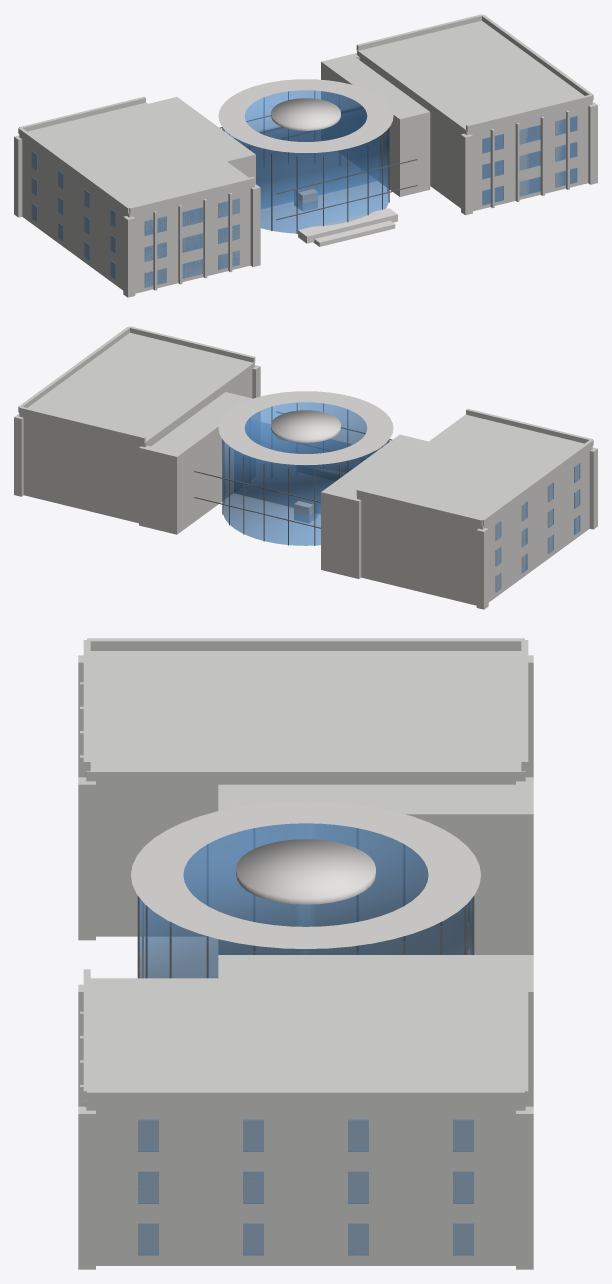
File: Library.glb
3 views of the same model, one above another, from view 1: azimuth 30°, elevation 25°; view 2: azimuth 150°, elevation 25°; view 3: azimuth 270°, elevation 25° (orthographic). The views are drawn at different scales.
Parts seen in each view (by area): view 1: OBJ_Wing_Left_Mass, OBJ_Wing_Right_Parapet, OBJ_Wing_Left_Parapet, OBJ_CentralCurvedBlock, OBJ_Wing_Right_Mass, OBJ_RearCurvedBlock, OBJ_CurvedRoofDisk, OBJ_Connector_Right, OBJ_Connector_Left, OBJ_EntranceLanding, OBJ_Column_LL, OBJ_Parapet_Left_Side (+18 smaller); view 2: OBJ_Wing_Left_Mass, OBJ_Wing_Right_Parapet, OBJ_Wing_Left_Parapet, OBJ_RearCurvedBlock, OBJ_Wing_Right_Mass, OBJ_Connector_Right, OBJ_CurvedRoofDisk, OBJ_CentralCurvedBlock, OBJ_Connector_Left, OBJ_Column_LBL, OBJ_Parapet_Left_Side, OBJ_Parapet_Left_Rear (+9 smaller); view 3: OBJ_Wing_Right_Mass, OBJ_Wing_Left_Parapet, OBJ_Wing_Right_Parapet, OBJ_Connector_Left, OBJ_CurvedRoofDisk, OBJ_Wing_Left_Mass, OBJ_CentralCurvedBlock, OBJ_RearCurvedBlock, OBJ_Connector_Right, OBJ_Parapet_Right_Side, OBJ_Parapet_Left_Side, OBJ_Column_LR (+6 smaller).
Part boxes in pixels (<box>): OBJ_Wing_Left_Mass: <box>22,139,250,293</box>; OBJ_Wing_Right_Parapet: <box>357,20,592,135</box>; OBJ_Wing_Left_Parapet: <box>19,102,254,217</box>; OBJ_CentralCurvedBlock: <box>234,107,388,233</box>; OBJ_Wing_Right_Mass: <box>359,57,588,211</box>; OBJ_RearCurvedBlock: <box>222,90,377,208</box>; OBJ_CurvedRoofDisk: <box>218,79,393,152</box>; OBJ_Connector_Right: <box>321,54,430,196</box>; OBJ_Connector_Left: <box>148,97,255,184</box>; OBJ_EntranceLanding: <box>298,208,397,243</box>; OBJ_Column_LL: <box>123,216,135,297</box>; OBJ_Parapet_Left_Side: <box>18,128,129,213</box>; OBJ_Wing_Left_Mass: <box>361,451,589,605</box>; OBJ_Wing_Right_Parapet: <box>19,332,254,447</box>; OBJ_Wing_Left_Parapet: <box>357,414,592,529</box>; OBJ_RearCurvedBlock: <box>223,419,377,545</box>; OBJ_Wing_Right_Mass: <box>23,369,252,523</box>; OBJ_Connector_Right: <box>146,392,255,534</box>; OBJ_CurvedRoofDisk: <box>218,391,393,464</box>; OBJ_CentralCurvedBlock: <box>234,402,389,513</box>; OBJ_Connector_Left: <box>321,434,428,576</box>; OBJ_Column_LBL: <box>476,528,488,609</box>; OBJ_Parapet_Left_Side: <box>482,440,593,525</box>; OBJ_Parapet_Left_Rear: <box>356,489,482,525</box>; OBJ_Wing_Right_Mass: <box>96,1110,515,1265</box>; OBJ_Wing_Left_Parapet: <box>86,651,525,781</box>; OBJ_Wing_Right_Parapet: <box>86,978,525,1110</box>; OBJ_Connector_Left: <box>218,784,533,954</box>; OBJ_CurvedRoofDisk: <box>131,801,480,948</box>; OBJ_Wing_Left_Mass: <box>96,781,515,936</box>; OBJ_CentralCurvedBlock: <box>139,823,305,978</box>; OBJ_RearCurvedBlock: <box>306,823,472,954</box>; OBJ_Connector_Right: <box>218,955,533,984</box>; OBJ_Parapet_Right_Side: <box>87,1090,524,1103</box>; OBJ_Parapet_Left_Side: <box>87,638,524,650</box>; OBJ_Column_LR: <box>78,777,95,940</box>.
Bounding box in the file's own units: 62 × 12 × 26.
